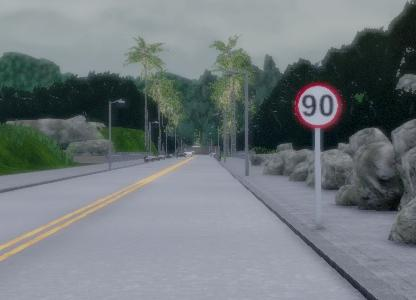Speed_90: (290, 77, 344, 131)
